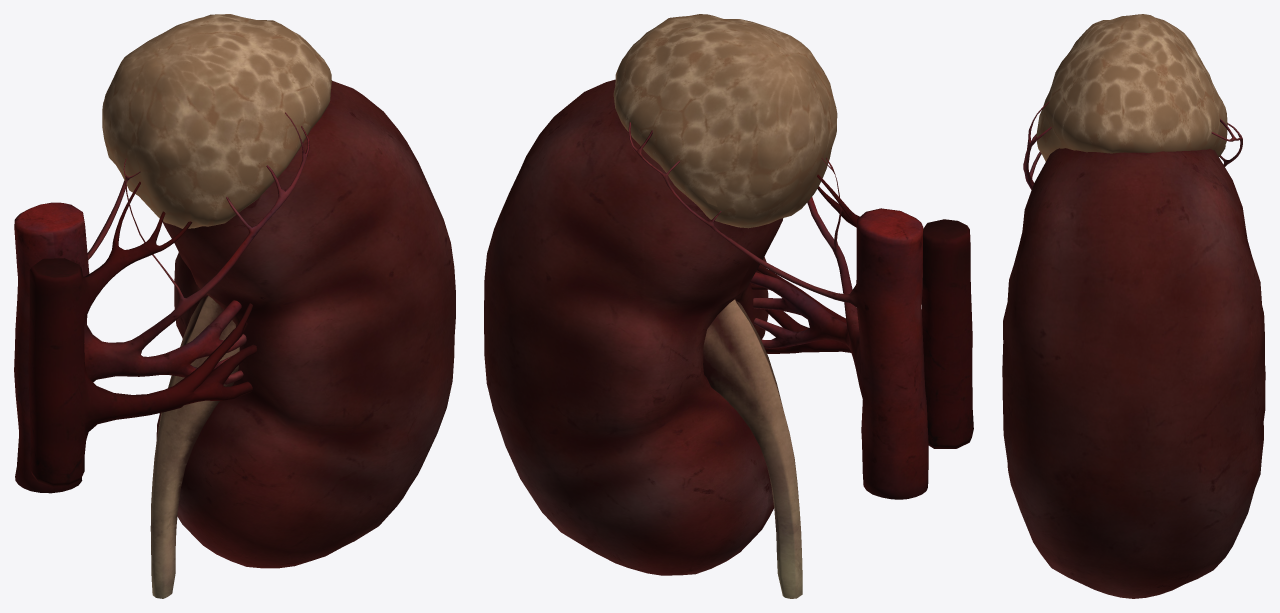
Rendered from medicine_organ_-_the_human_kidney.glb.
The picture shows the model from 3 angles, left to right: view 1: azimuth 30°, elevation 25°; view 2: azimuth 150°, elevation 25°; view 3: azimuth 270°, elevation 25°; orthographic projection. The views are drawn at different scales.
Visible parts, largest first — view 1: Kidney_OBJ:textureEditorIsolateSelectSetKidneyAll_L2_M_Kidne; view 2: Kidney_OBJ:textureEditorIsolateSelectSetKidneyAll_L2_M_Kidne; view 3: Kidney_OBJ:textureEditorIsolateSelectSetKidneyAll_L2_M_Kidne.
Boxes of the visible parts, left/top/right/bottom form: Kidney_OBJ:textureEditorIsolateSelectSetKidneyAll_L2_M_Kidne: left=14, top=14, right=455, bottom=598; Kidney_OBJ:textureEditorIsolateSelectSetKidneyAll_L2_M_Kidne: left=484, top=14, right=973, bottom=598; Kidney_OBJ:textureEditorIsolateSelectSetKidneyAll_L2_M_Kidne: left=1002, top=14, right=1265, bottom=598.
Bounding box in the file's own units: 0.0211 × 0.026 × 0.0116.
1 material, 1 textured.
